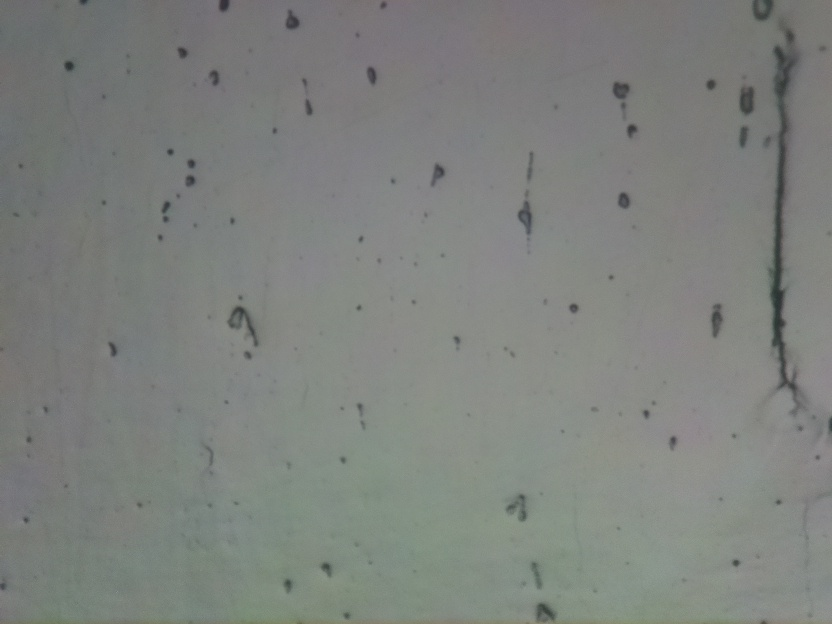crack: (760, 49, 800, 400)
